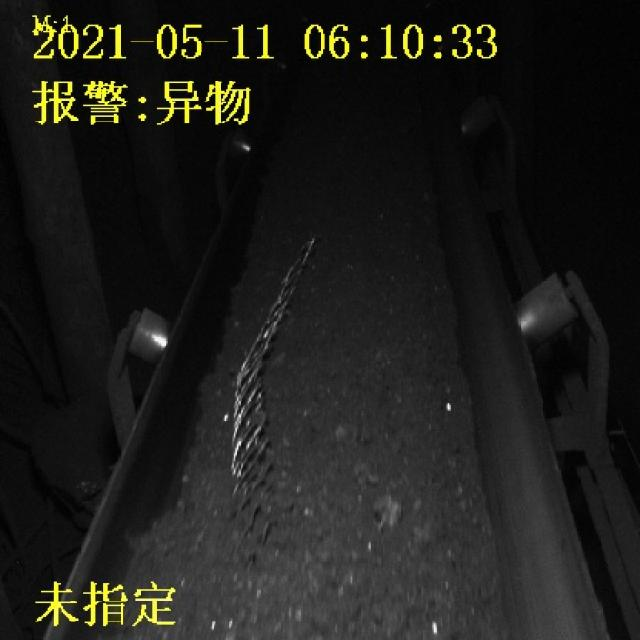bolt: (230, 236, 328, 504)
